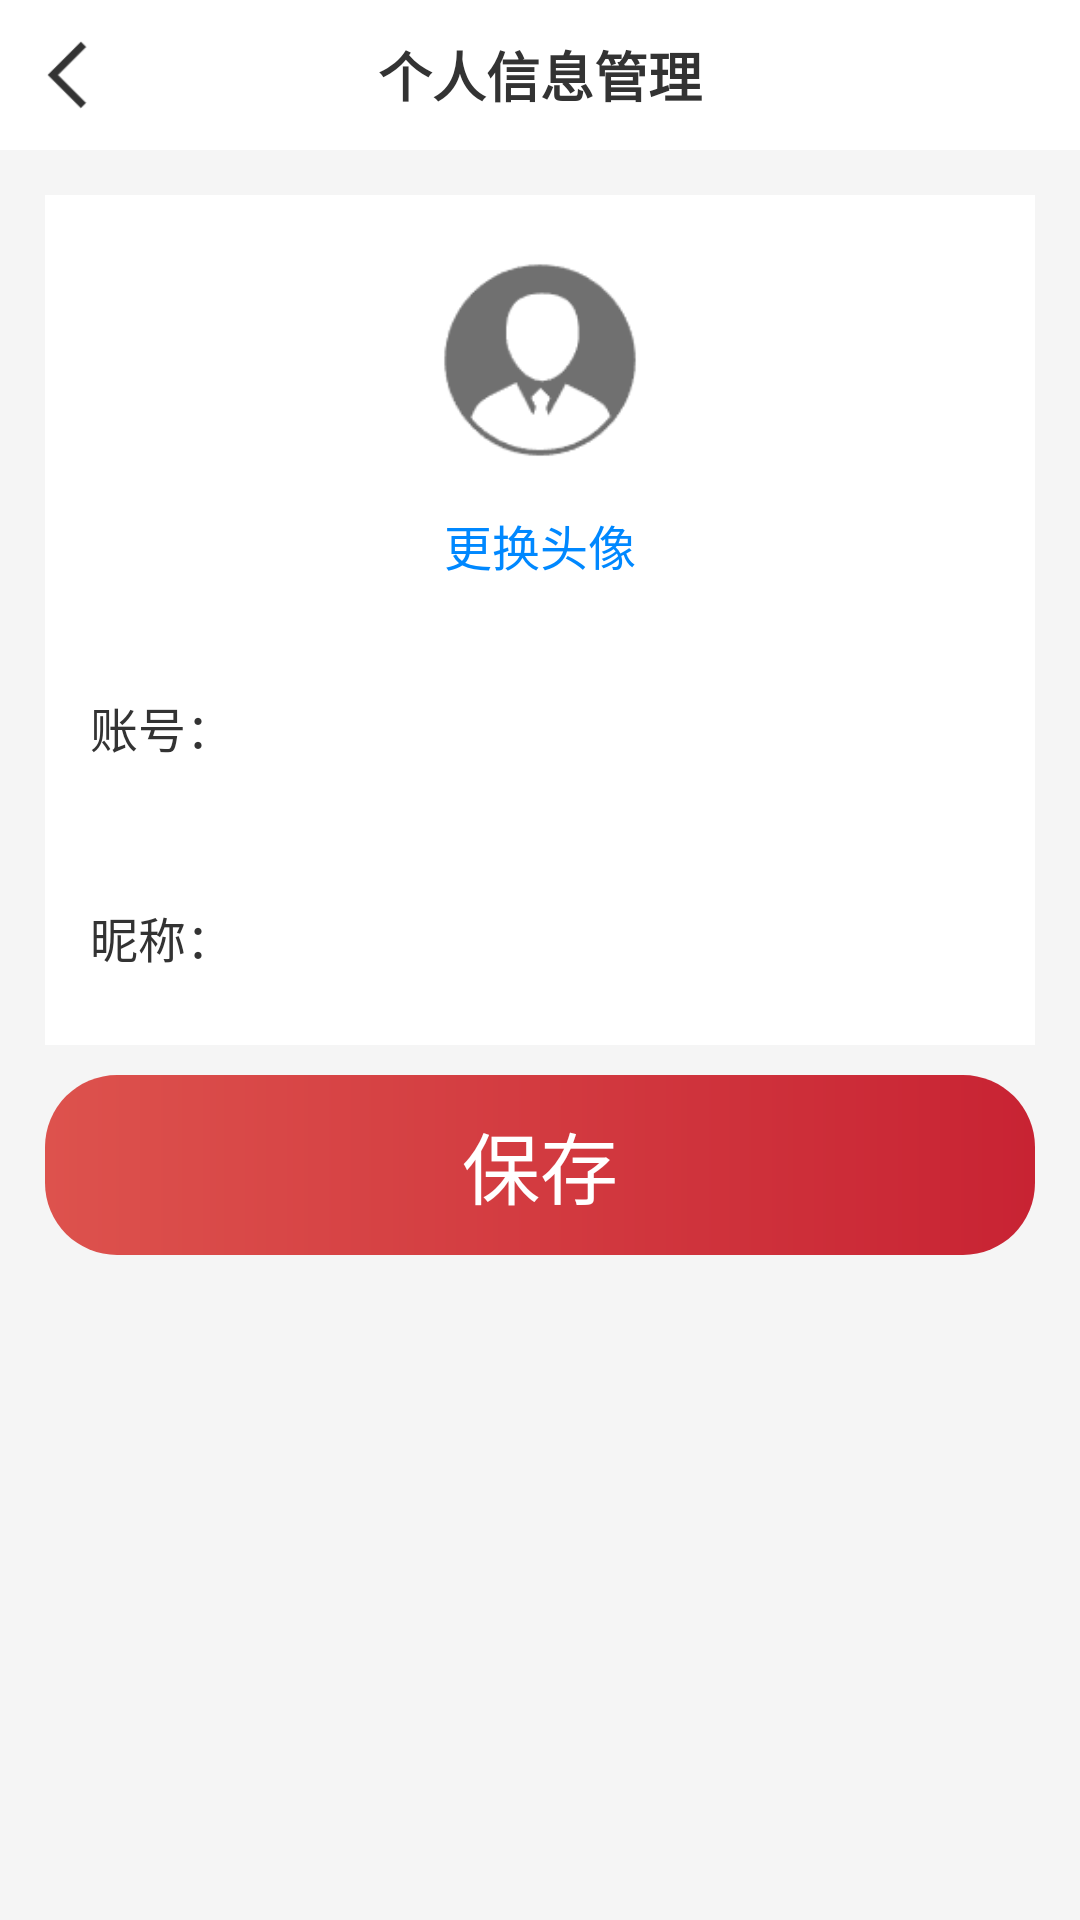

Screen size 1080x1920. Icon name, then its box in pixels as bbox=(x1, y1, x2, y2):
arrow left: bbox=(48, 42, 87, 108)
